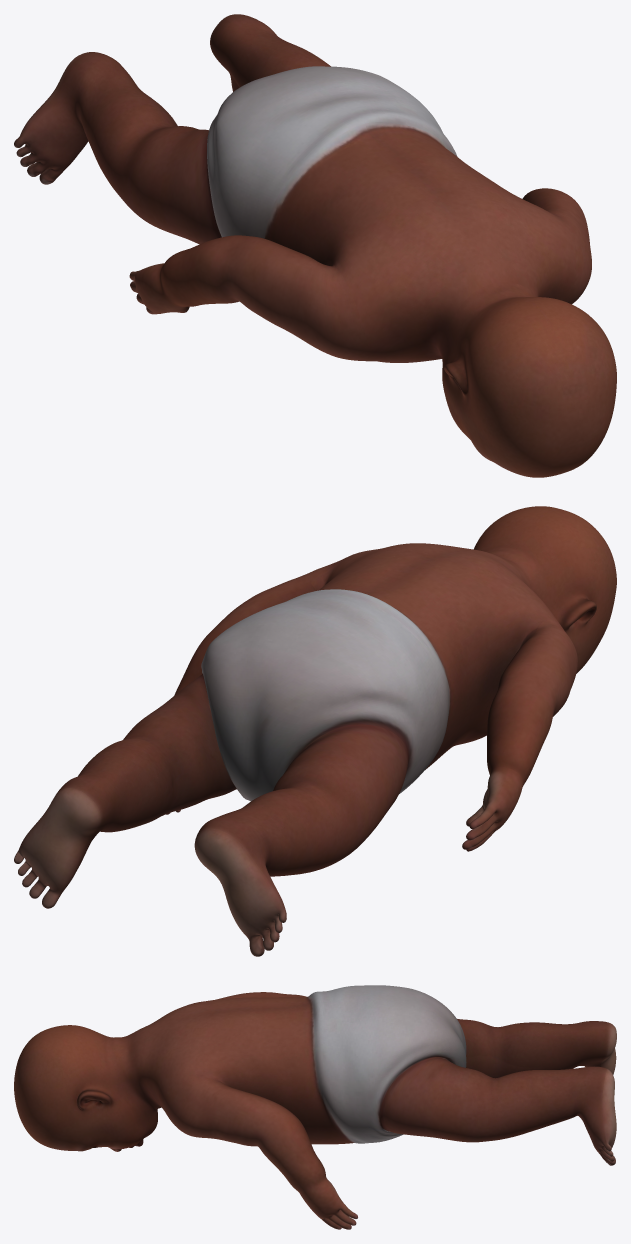
The model's file is baby.obj.
3 renders of one model, top to bottom at view 1: azimuth 30°, elevation 25°; view 2: azimuth 150°, elevation 25°; view 3: azimuth 270°, elevation 25°, orthographic. The views are drawn at different scales.
Parts seen in each view (by area): view 1: StandingBaby; view 2: StandingBaby; view 3: StandingBaby.
Boxes of the visible parts, left/top/right/bottom form: StandingBaby: left=14, top=14, right=616, bottom=477; StandingBaby: left=14, top=506, right=616, bottom=956; StandingBaby: left=14, top=985, right=616, bottom=1229.
Size of the model in its own units: 12.18 by 7.77 by 23.85.
1 material, 1 textured.
